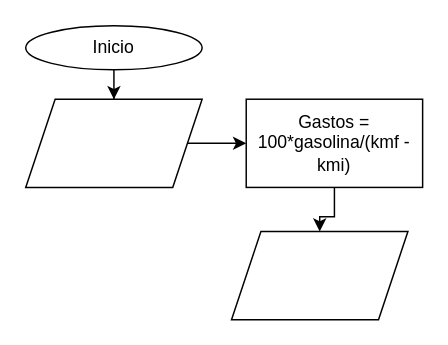
This 448x345 diagram has some shape labels left out. The centre of each missing label's shape, as x and y in pixels:
LER Gastos: the point at 319,275
Registar litros Registar os Kmi e kmf: the point at 113,142
